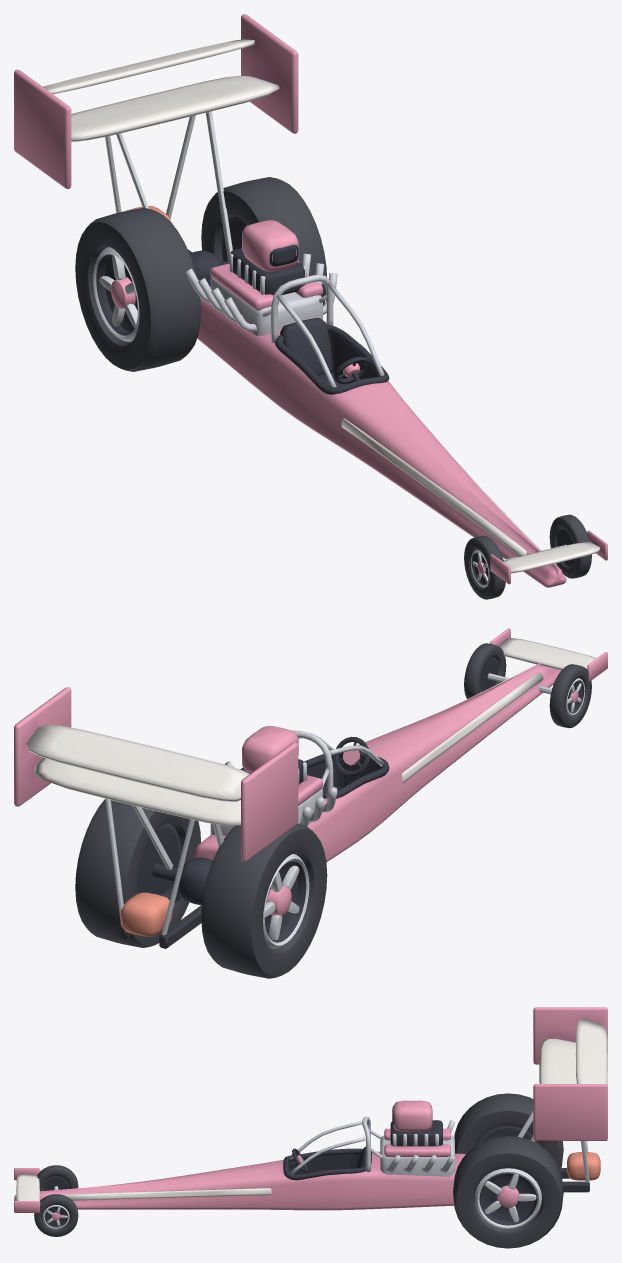
The model's file is dragster.glb.
3 views of the same model, one above another, from view 1: azimuth 30°, elevation 25°; view 2: azimuth 150°, elevation 25°; view 3: azimuth 270°, elevation 25° (orthographic). The views are drawn at different scales.
Visible parts, largest first — view 1: dragster_body, dragster_wheel_rr, dragster_wheel_rl, dragster_wheel_fr, dragster_wheel_fl; view 2: dragster_body, dragster_wheel_rr, dragster_wheel_rl, dragster_wheel_fr, dragster_wheel_fl, dragster_steering_wheel; view 3: dragster_body, dragster_wheel_rl, dragster_wheel_rr, dragster_wheel_fl, dragster_wheel_fr.
Part boxes in pixels (x1,y1,x2,y2): dragster_body: (14, 14, 607, 587); dragster_wheel_rr: (75, 207, 201, 371); dragster_wheel_rl: (201, 177, 326, 305); dragster_wheel_fr: (464, 535, 505, 599); dragster_wheel_fl: (549, 514, 591, 578); dragster_body: (14, 628, 607, 948); dragster_wheel_rr: (201, 823, 327, 978); dragster_wheel_rl: (75, 799, 200, 947); dragster_wheel_fr: (549, 664, 591, 728); dragster_wheel_fl: (464, 643, 506, 699); dragster_steering_wheel: (334, 736, 369, 776); dragster_body: (14, 1007, 607, 1212); dragster_wheel_rl: (453, 1136, 563, 1248); dragster_wheel_rr: (454, 1093, 563, 1167); dragster_wheel_fl: (34, 1194, 78, 1236); dragster_wheel_fr: (37, 1165, 78, 1191).
Size of the model in its own units: 1.85 by 1.92 by 5.9.
Materials: 19 (1 with a texture image).
